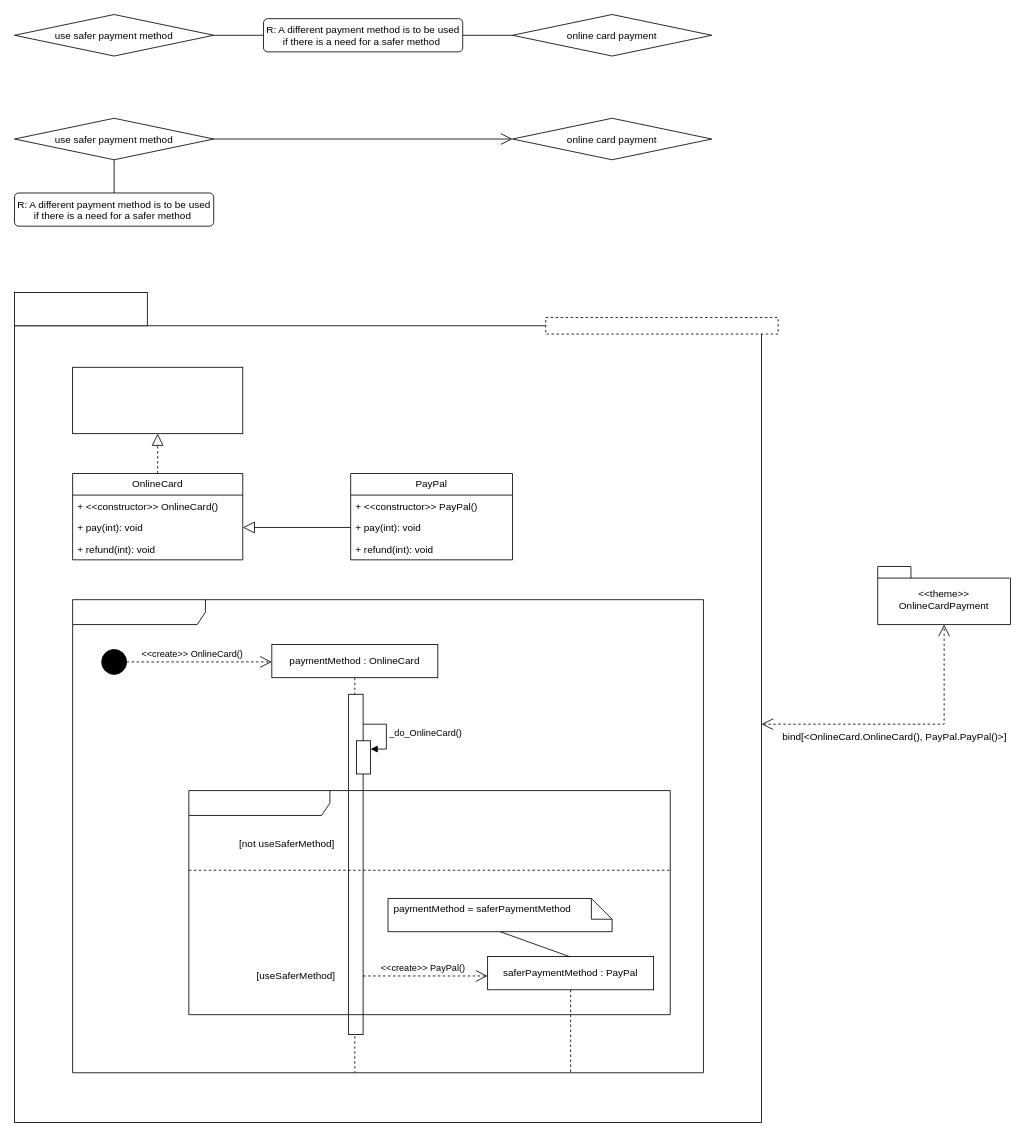
This 1025x1137 diagram has some shape labels left out. The box of each missing label's shape, as (x1, y1, x2, y2) in pixels:
<<interface>> PaymentMethod + pay(int): void + refund(int): void: (72, 366, 243, 434)
<<theme>> UseSaferPaymentMethod: (14, 292, 147, 326)
<OnlineCard.OnlineCard(), PayPal.PayPal()>: (545, 317, 778, 334)
alt: (188, 790, 670, 1015)
sd OnlineCard: (72, 599, 703, 1073)
